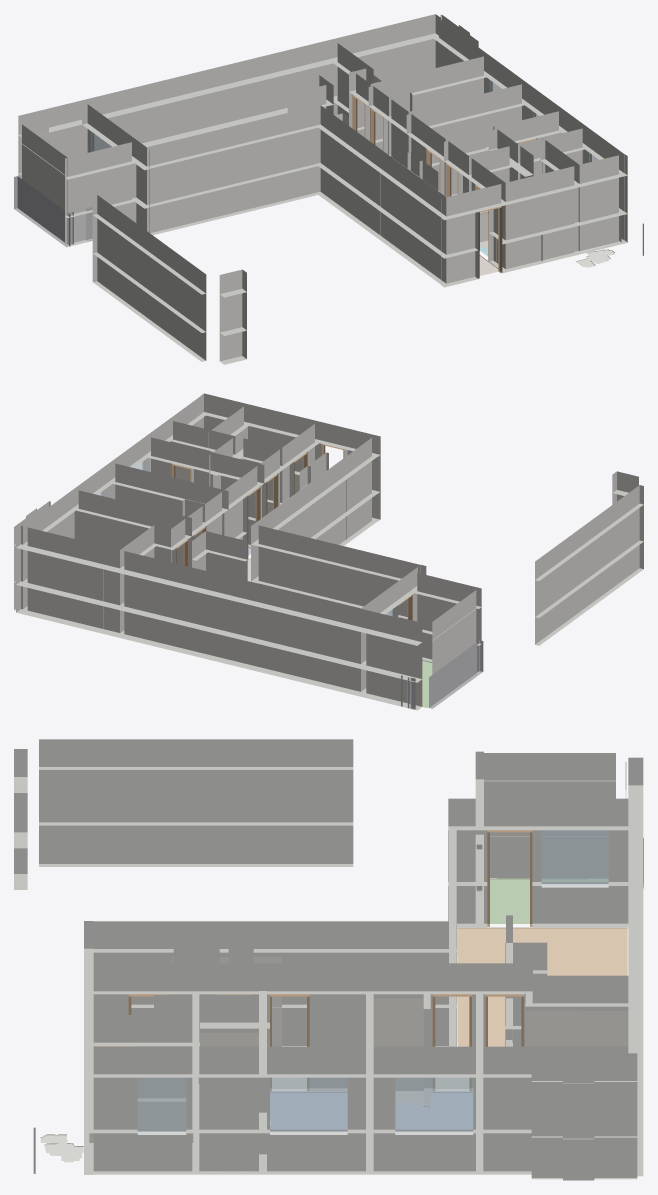
3 renders of one model, top to bottom at view 1: azimuth 30°, elevation 25°; view 2: azimuth 150°, elevation 25°; view 3: azimuth 270°, elevation 25°, orthographic. The views are drawn at different scales.
Parts seen in each view (by area): view 1: walls, railings, door_0; view 2: walls, railings; view 3: walls, floor_0_Living_Room, window_4, window_2, furniture_0_closet, window_1, furniture_1_closet, floor_5_Bed_Room, window_12, floor_4_Bed_Room, floor_10_Outdoor, furniture_12_sauna_bench (+5 smaller).
Boxes of the visible parts, x1,y1,x2,y2 form: walls: (18, 14, 627, 364); railings: (14, 176, 643, 255); door_0: (478, 206, 502, 278); walls: (14, 393, 643, 710); railings: (401, 640, 483, 709); walls: (14, 739, 643, 1180); floor_0_Living_Room: (457, 927, 627, 1046); window_4: (395, 1077, 473, 1131); window_2: (270, 1077, 347, 1131); furniture_0_closet: (524, 1010, 628, 1046); window_1: (541, 828, 608, 884); furniture_1_closet: (373, 998, 423, 1102); floor_5_Bed_Room: (270, 1092, 347, 1129); window_12: (137, 1077, 186, 1131); floor_4_Bed_Room: (395, 1092, 472, 1129); floor_10_Outdoor: (490, 878, 608, 923); furniture_12_sauna_bench: (89, 1102, 193, 1171).
Bounding box in the file's own units: 14.7 × 2.72 × 12.36.
